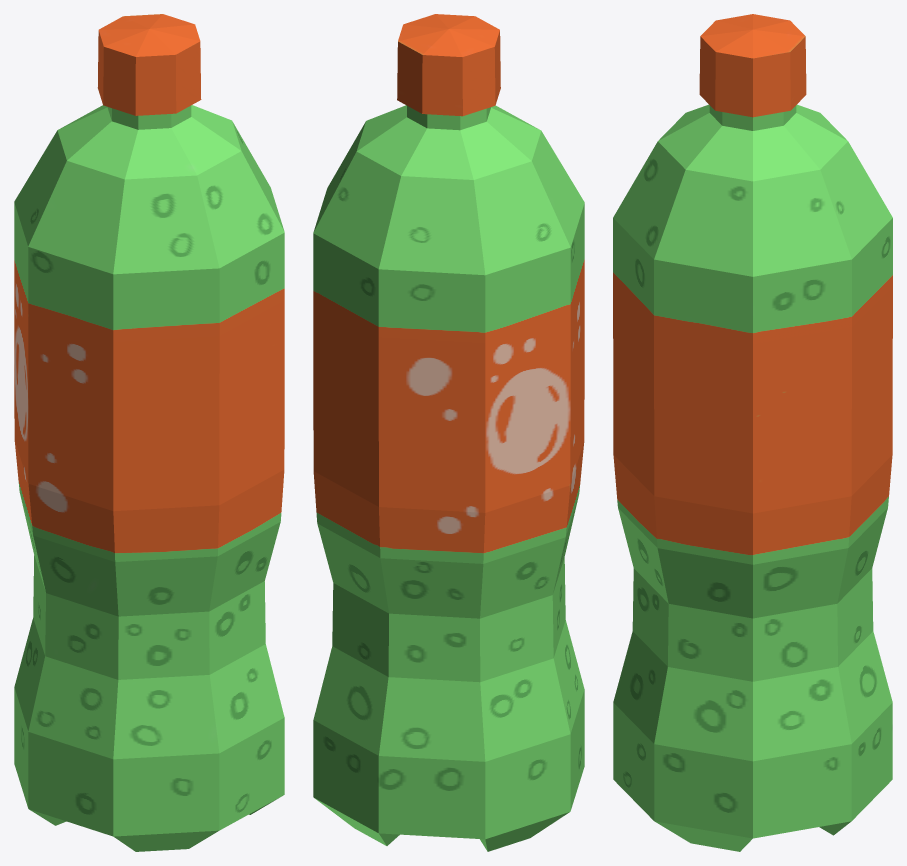
Rendered from Bottle_Main.fbx.
The picture shows the model from 3 angles, left to right: view 1: azimuth 30°, elevation 25°; view 2: azimuth 150°, elevation 25°; view 3: azimuth 270°, elevation 25°; orthographic projection.
Parts seen in each view (by area): view 1: Bottle_Low; view 2: Bottle_Low; view 3: Bottle_Low.
Boxes of the visible parts, box(x1,y1,x2,y2) form: Bottle_Low: box(14, 14, 284, 851); Bottle_Low: box(313, 14, 584, 851); Bottle_Low: box(613, 14, 892, 851).
Bounding box in the file's own units: 23.88 × 73.38 × 23.88.
Materials: 1 (1 with a texture image).
